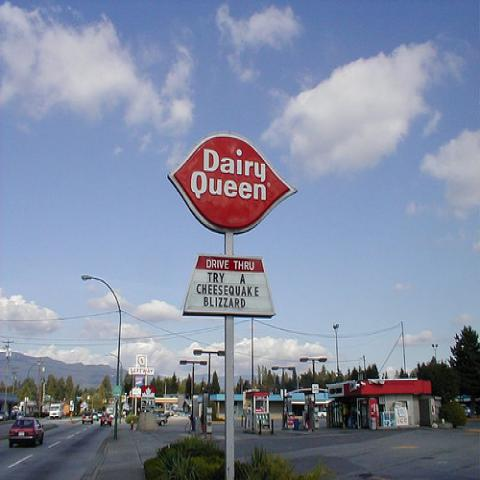car: (8, 417, 44, 448), (155, 410, 175, 426), (81, 411, 94, 424), (461, 404, 471, 418), (101, 414, 111, 426), (317, 408, 327, 418), (92, 413, 98, 421), (97, 410, 102, 418), (108, 408, 114, 414)
